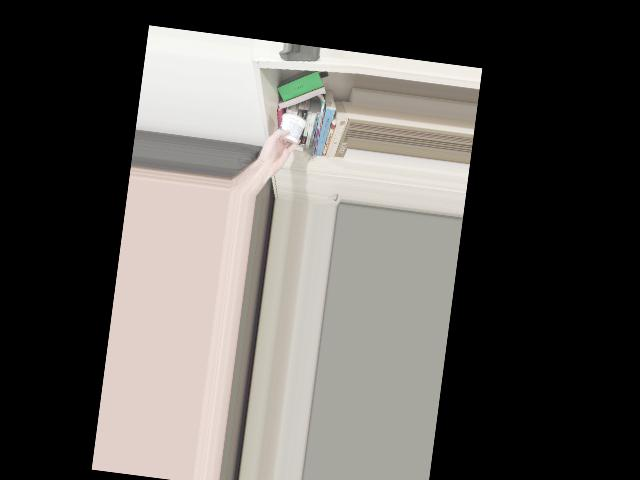cotage: (273, 110, 308, 151)
